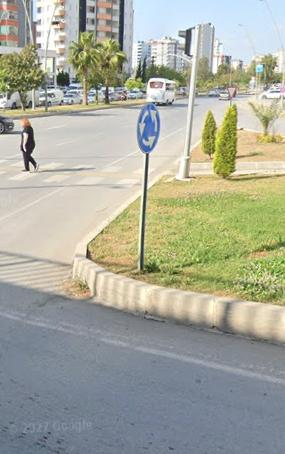crossroads: (136, 104, 159, 153)
